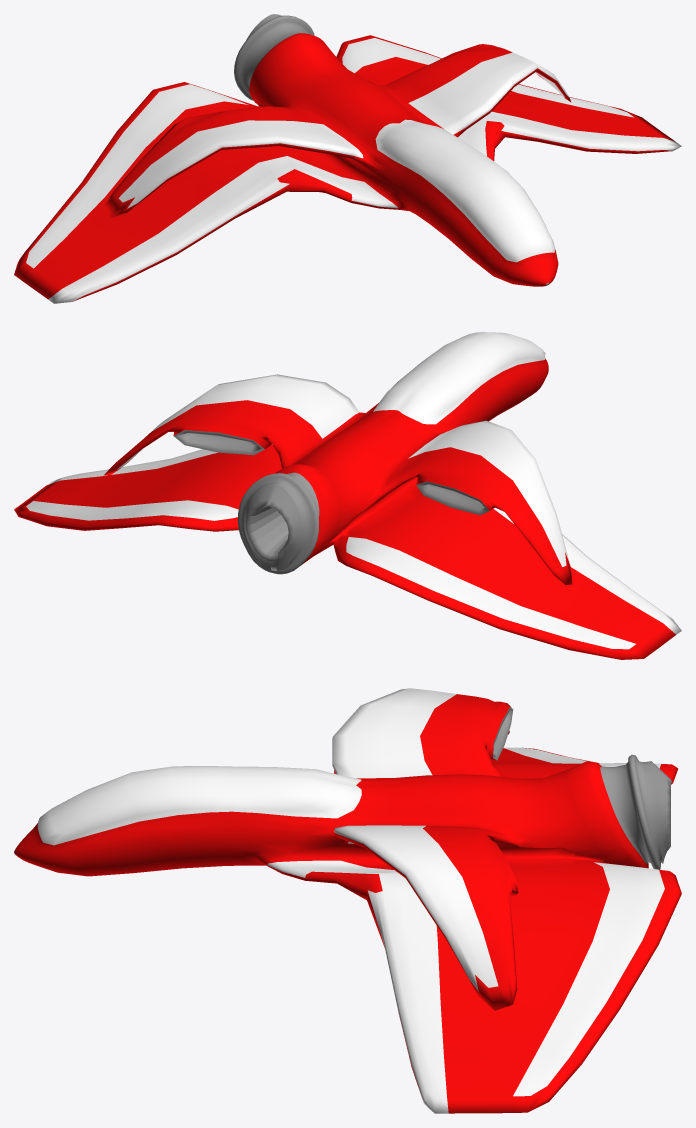
The model's file is Magneto_Final.FBX.
3 renders of one model, top to bottom at view 1: azimuth 30°, elevation 25°; view 2: azimuth 150°, elevation 25°; view 3: azimuth 270°, elevation 25°, orthographic. The views are drawn at different scales.
Visible parts, largest first — view 1: MagnetoFinal; view 2: MagnetoFinal; view 3: MagnetoFinal.
Boxes of the visible parts, x1=… form: MagnetoFinal: x1=14, y1=14, x2=681, y2=303; MagnetoFinal: x1=14, y1=332, x2=681, y2=659; MagnetoFinal: x1=14, y1=688, x2=681, y2=1113.
Size of the model in its own units: 288 by 63.53 by 223.
